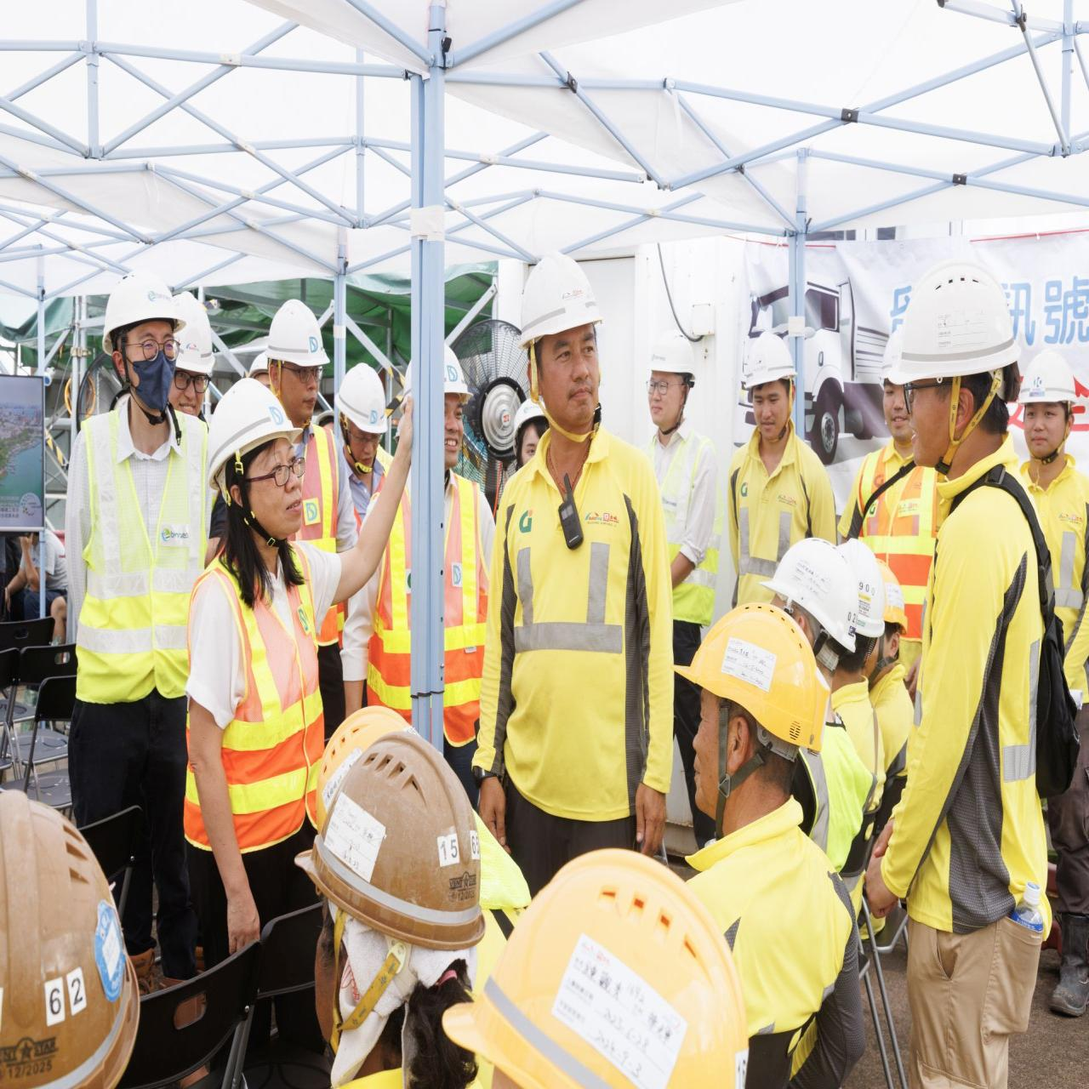NO_Safety_Vest: (915, 461, 1045, 923), (502, 445, 654, 827), (707, 836, 857, 1089), (1016, 451, 1089, 700), (636, 432, 720, 625), (726, 440, 834, 583)
Person: (176, 328, 433, 1089), (866, 262, 1056, 1089), (63, 271, 215, 1042), (660, 579, 873, 1089), (502, 258, 645, 895), (624, 321, 734, 899), (358, 348, 487, 821), (1010, 341, 1089, 1035), (251, 298, 356, 759), (834, 321, 944, 728), (721, 313, 839, 637), (326, 341, 404, 751), (180, 299, 238, 570)
Safety_Vest: (186, 547, 336, 857), (75, 411, 201, 711), (374, 479, 491, 751), (850, 449, 944, 674), (289, 424, 351, 649)
